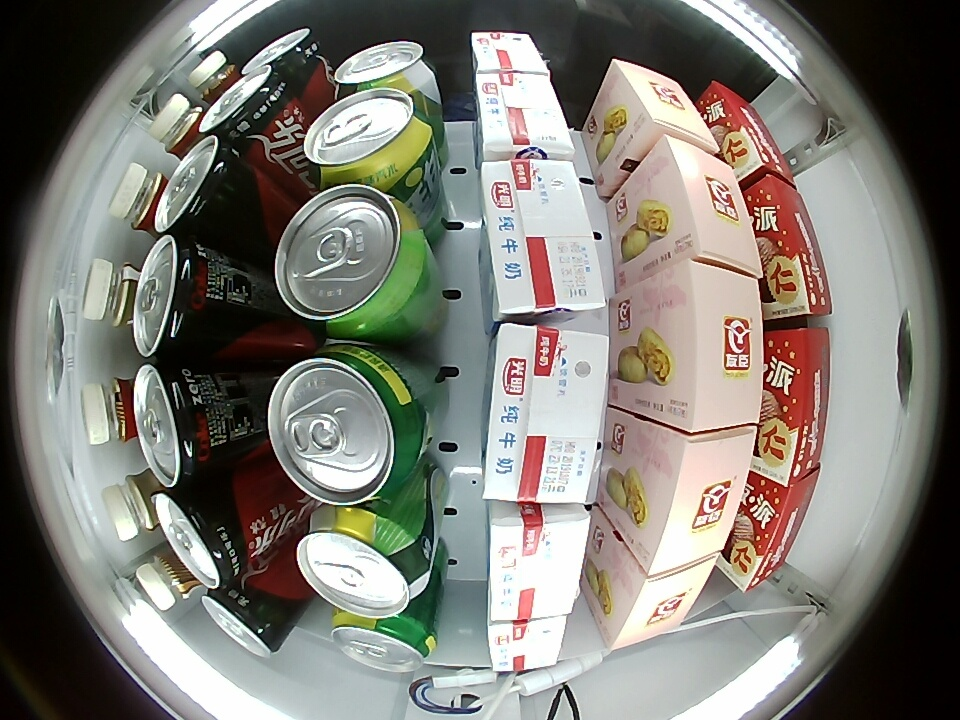haoliyou: (747, 175, 832, 320), (727, 463, 821, 592), (757, 329, 830, 487), (705, 82, 797, 189)
kafei: (101, 467, 177, 543), (109, 162, 175, 237), (134, 544, 205, 611), (82, 378, 152, 445), (151, 93, 217, 161), (83, 259, 145, 330), (189, 50, 243, 107)
lingdukele: (133, 363, 224, 487), (134, 236, 218, 357), (155, 479, 248, 588), (154, 136, 248, 237), (202, 566, 297, 657), (200, 66, 293, 158), (241, 28, 326, 97)
niunai: (482, 321, 610, 505), (480, 161, 609, 323), (489, 506, 592, 620), (474, 73, 574, 161), (488, 614, 568, 673), (470, 31, 549, 80)
quchenshixiangcao: (275, 184, 427, 339), (297, 507, 431, 618), (332, 40, 435, 100)
rousongbing: (654, 259, 764, 435), (632, 423, 757, 577), (647, 135, 763, 276), (603, 551, 721, 649), (602, 58, 719, 156)
xuebi2: (267, 343, 425, 507), (304, 88, 432, 187), (330, 612, 438, 673)
